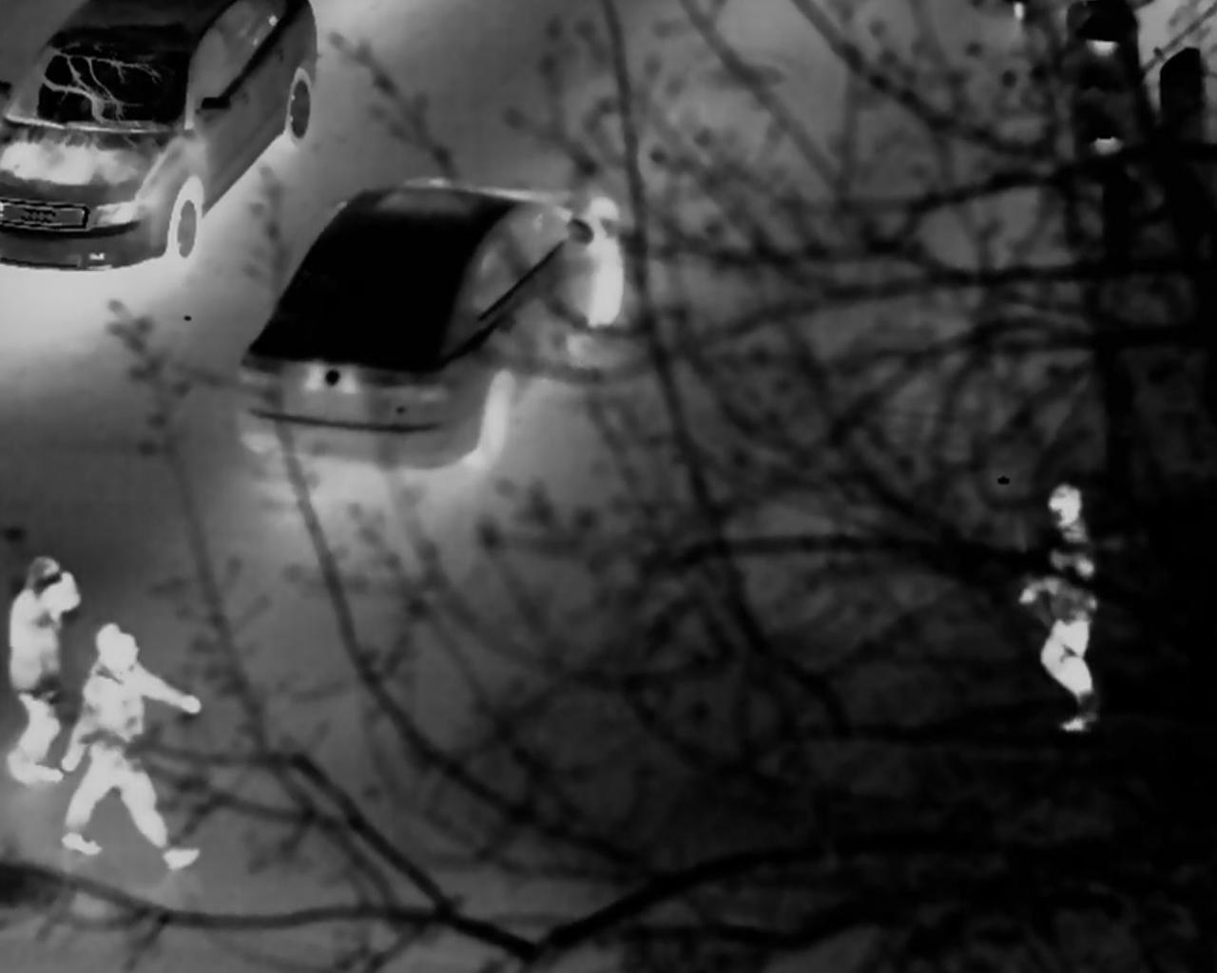person: (75, 629, 202, 855), (1035, 485, 1103, 720), (3, 564, 73, 785)
